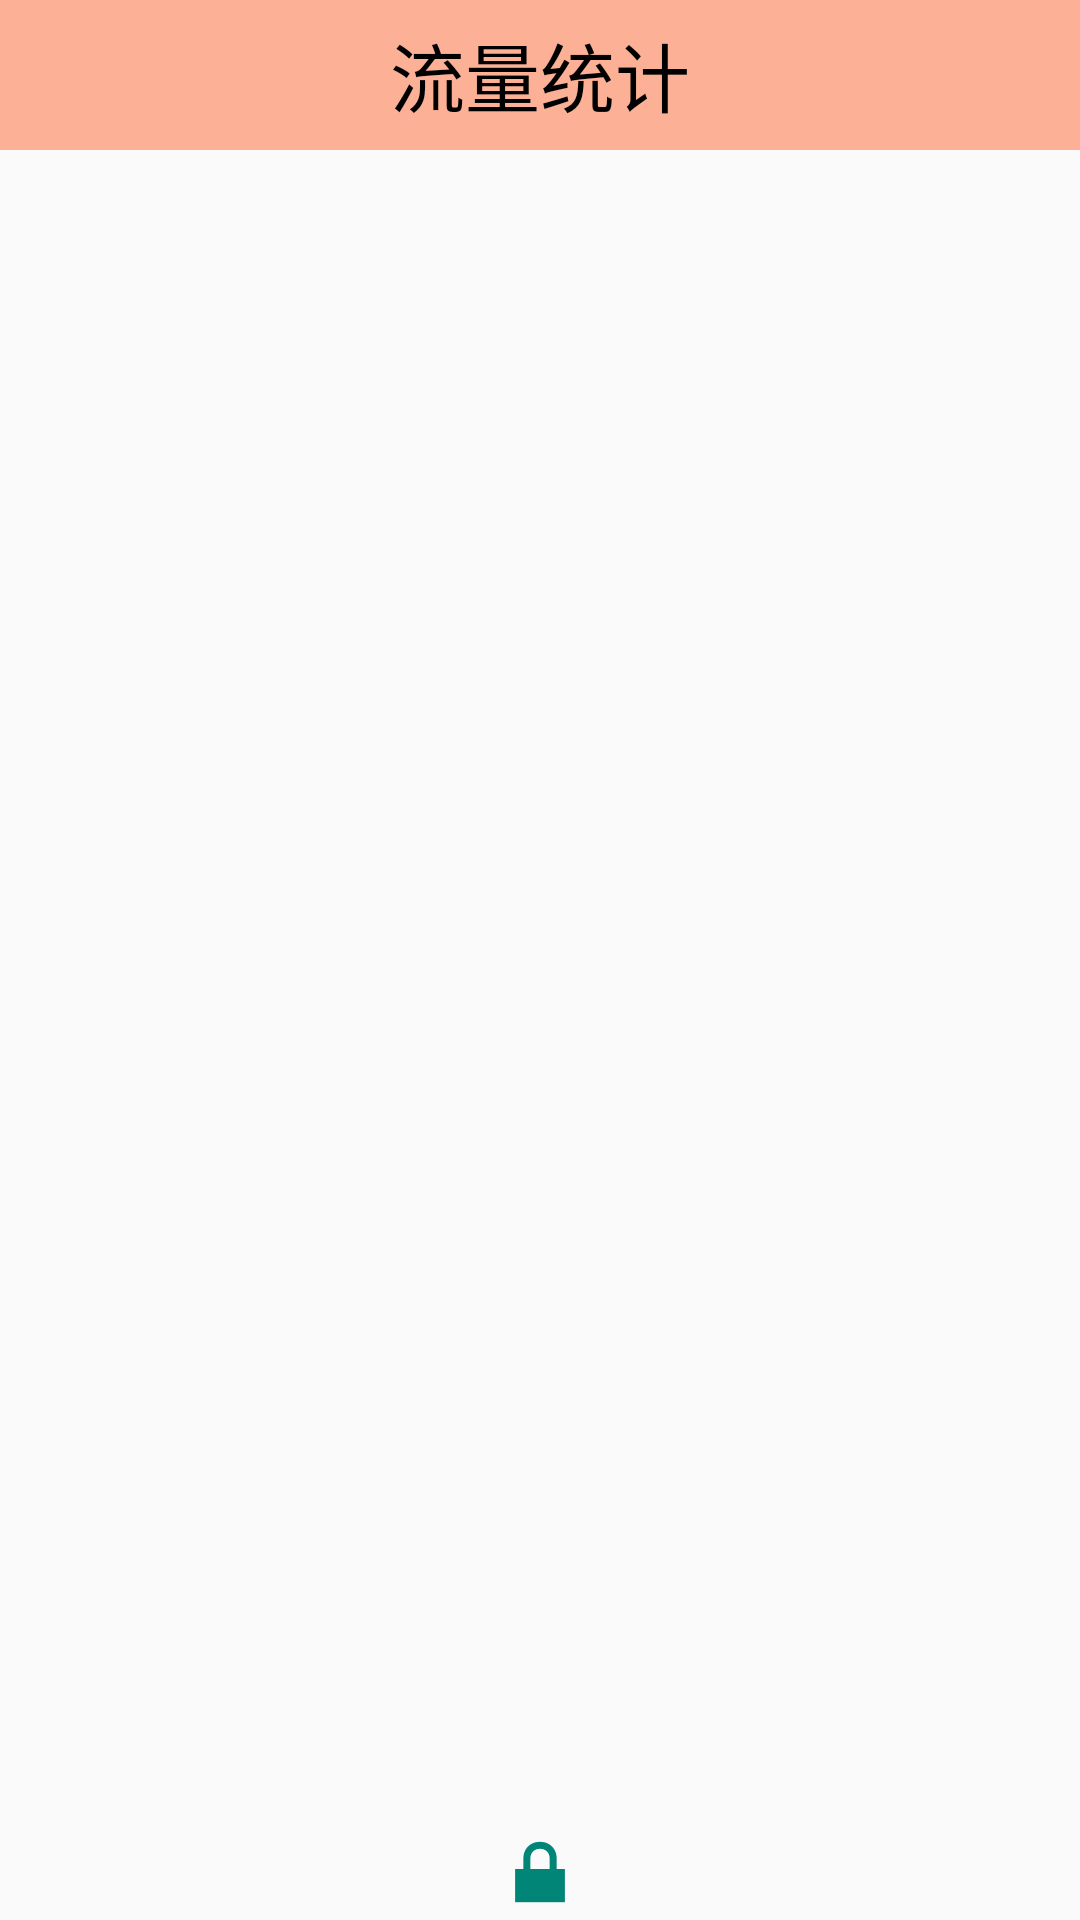

Screen size 1080px x 1920px. Icon name, then its box in pixels as (x1, y1, x2, y2):
lock: (515, 1841, 565, 1903)
